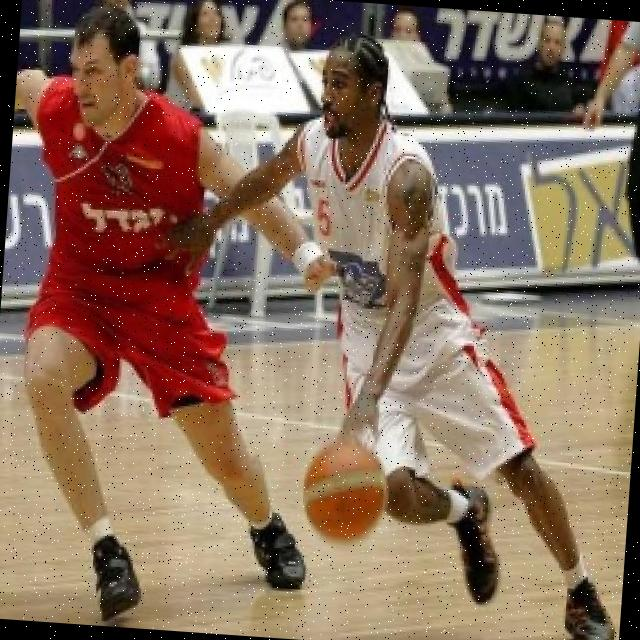ball: (292, 428, 394, 548)
